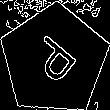P_SE: (24, 29, 84, 90)
